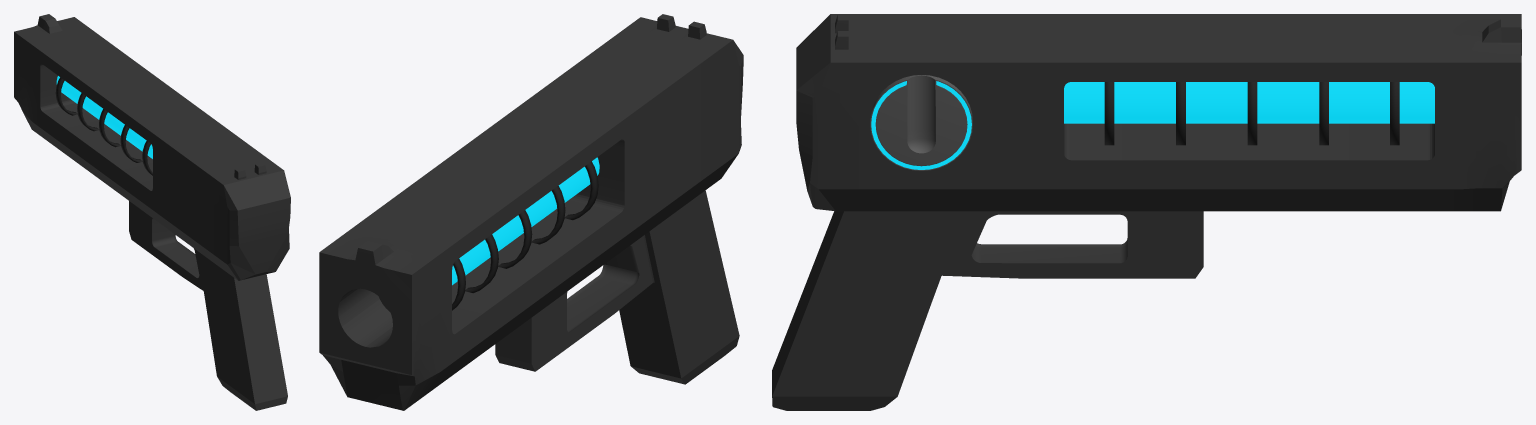
The model's file is Gun.fbx.
3 renders of one model, left to right at view 1: azimuth 30°, elevation 25°; view 2: azimuth 150°, elevation 25°; view 3: azimuth 270°, elevation 25°, orthographic. The views are drawn at different scales.
Parts seen in each view (by area): view 1: Frame, EnergySourceHolder; view 2: Frame, EnergySourceHolder; view 3: Frame, EnergySourceHolder, Turnthing.
Boxes of the visible parts, x1,y1,x2,y2 form: Frame: (14,14,290,410); EnergySourceHolder: (55,76,152,175); Frame: (319,14,743,410); EnergySourceHolder: (452,157,599,310); Frame: (772,14,1521,410); EnergySourceHolder: (1064,82,1434,145); Turnthing: (870,75,972,170).
Size of the model in its own units: 89.78 by 301 by 540.
